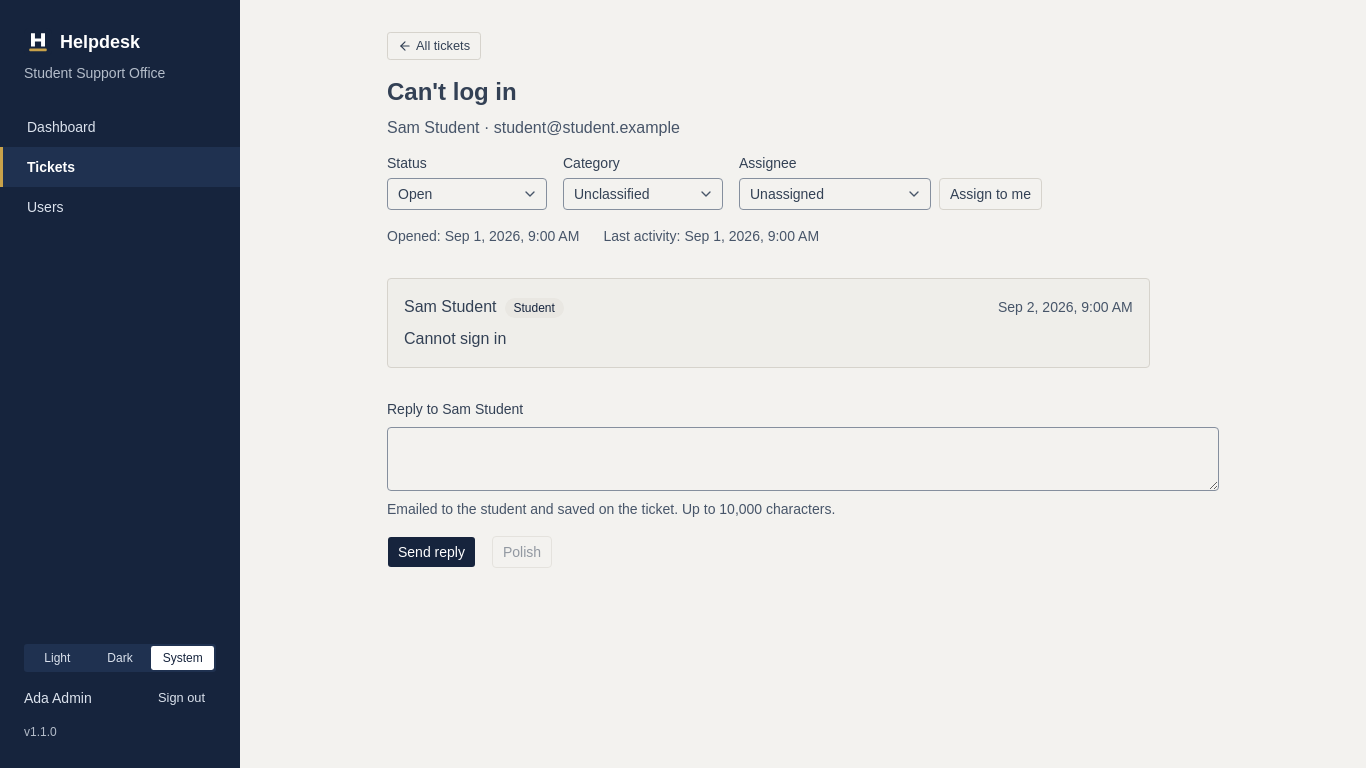
Test case: an agent changes the status, and the page shows what the API stored
The image size is (1366, 768).
Click the dropdown named "Status".
click(467, 194)  # box [387,178,547,210]
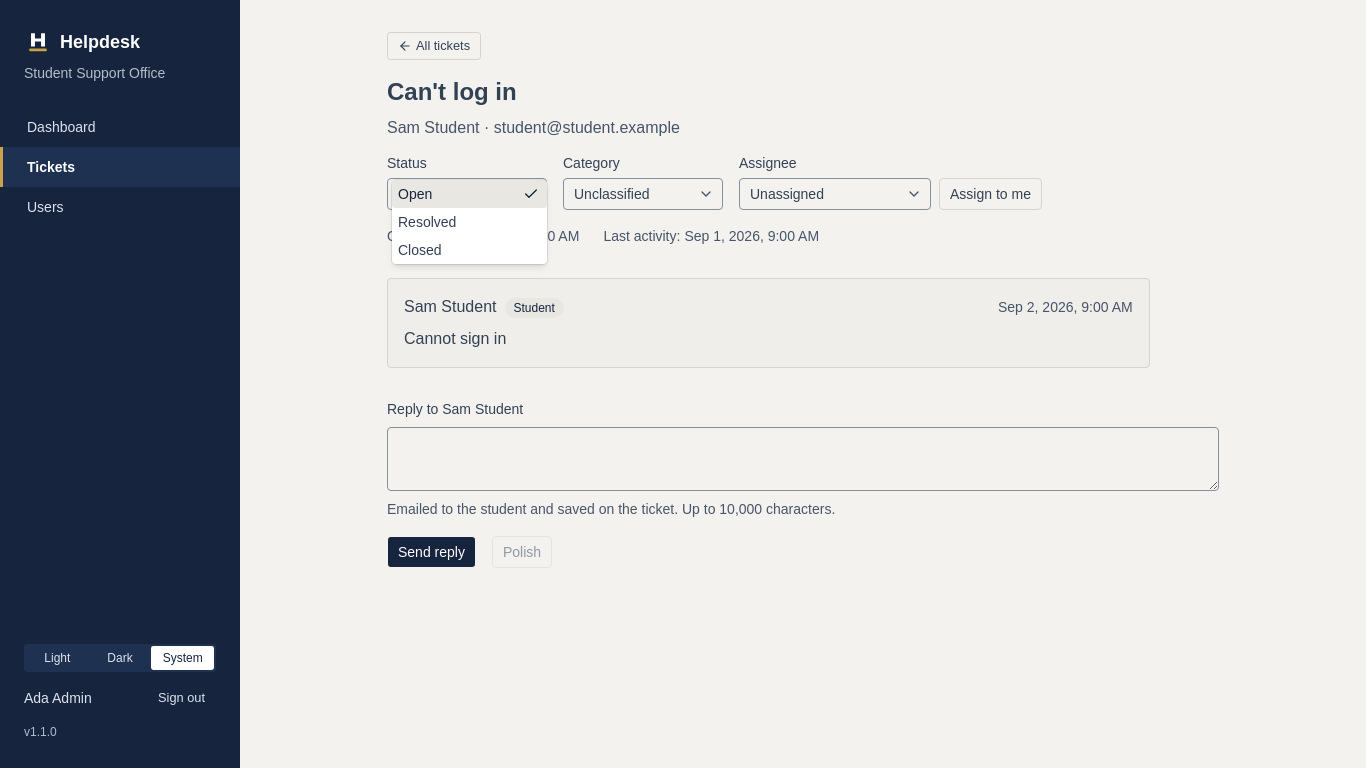
Click the option "resolved".
click(427, 222)  # box [398,214,456,230]
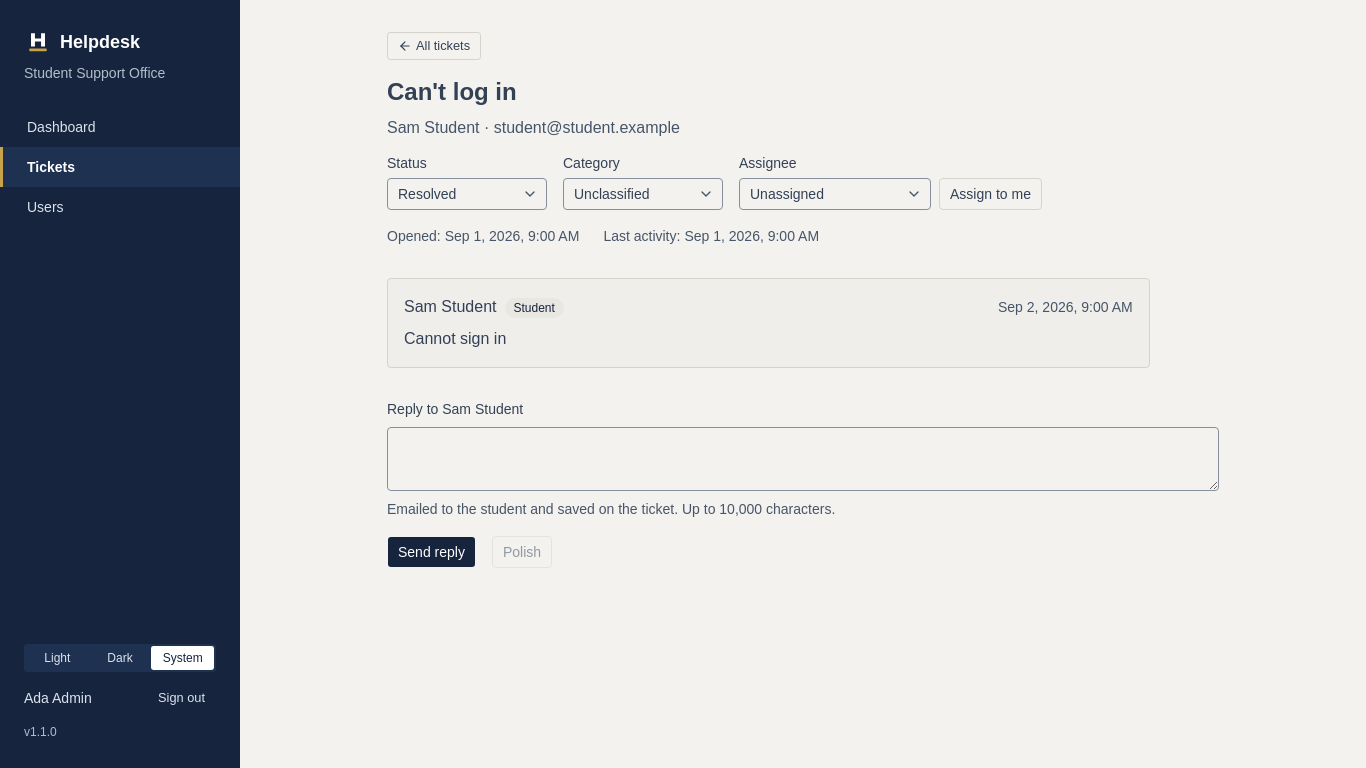
expect the dropdown named "Status" reads "resolved": met, box [387,178,547,210]
